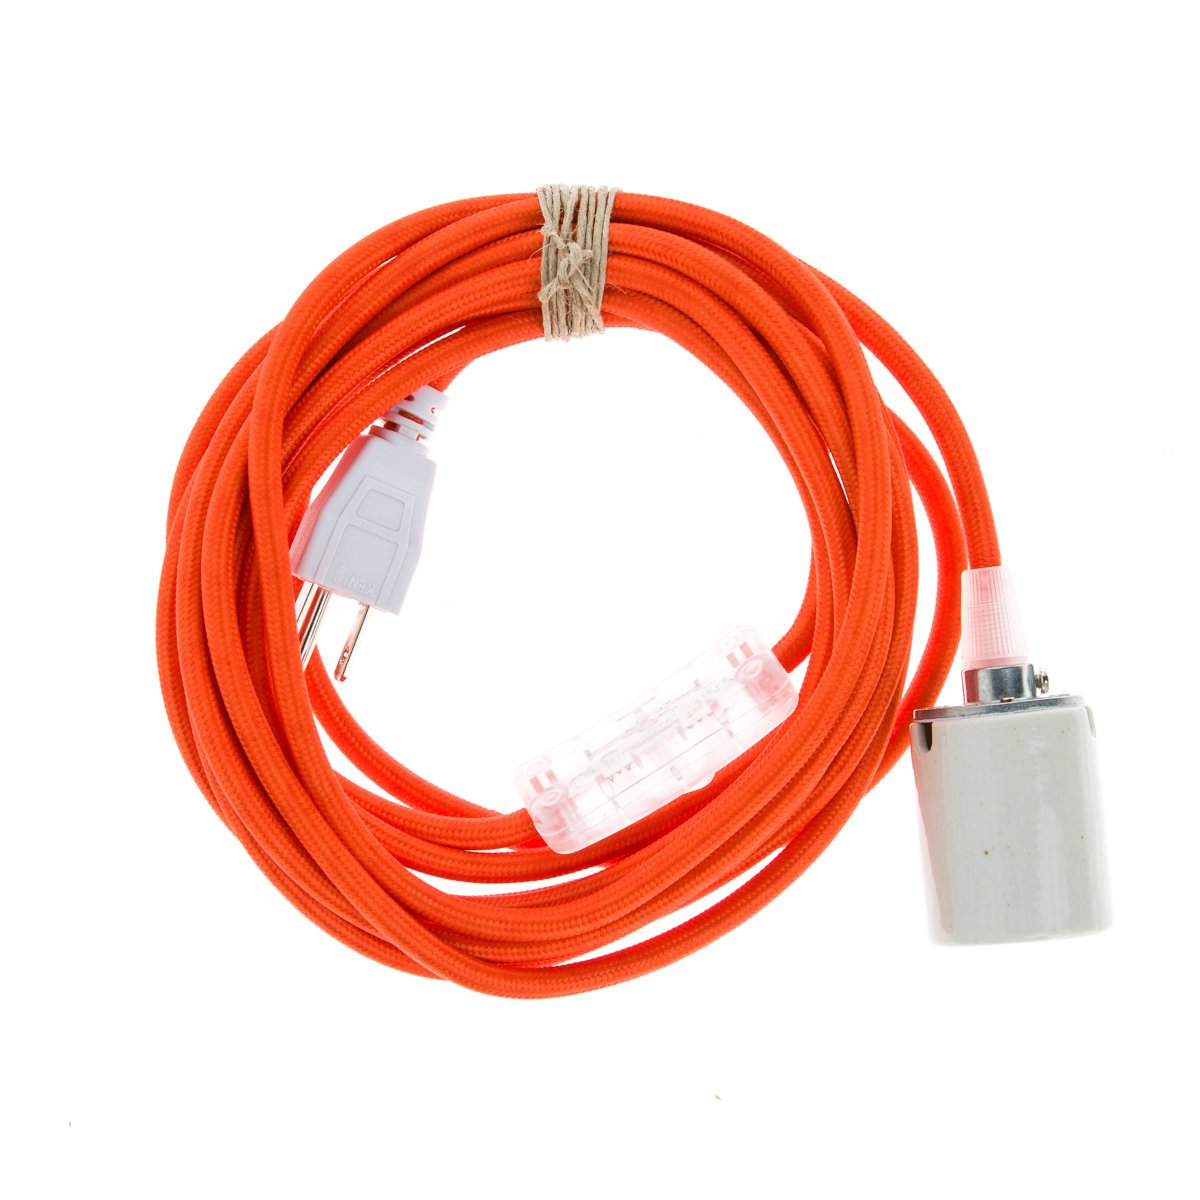Nonrec_Tangler: (99, 114, 1170, 1053)
